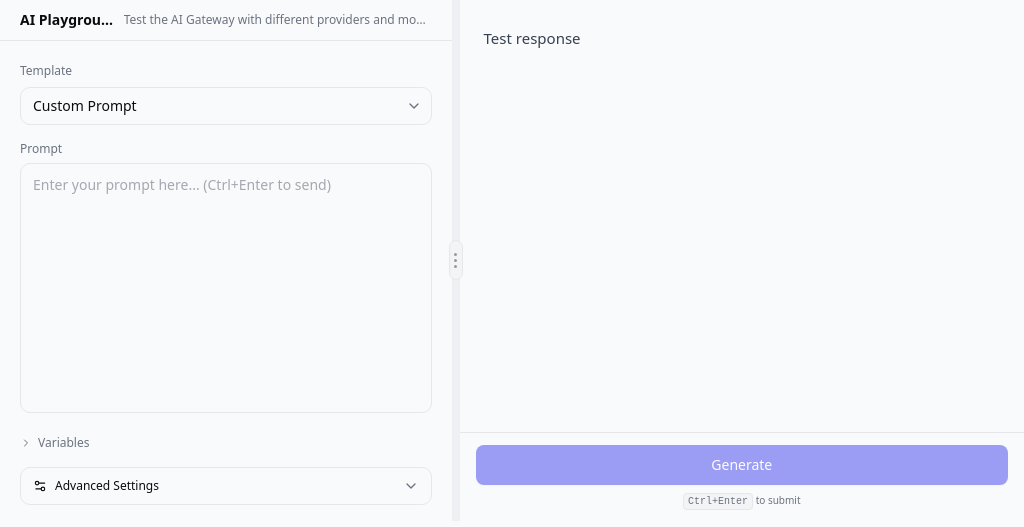
Test: Playground Flow - 10 Steps › Step 4: Response Actions › should have Regenerate capability via re-submitting prompt
This screenshot has width=1024, height=527.
User can type a new prompt and generate again (regenerate flow)
Type "Regenerate prompt" into the text box with placeholder "Enter your prompt here... (Ctrl+Enter to send)" at (226,288), box [20,163,432,412]
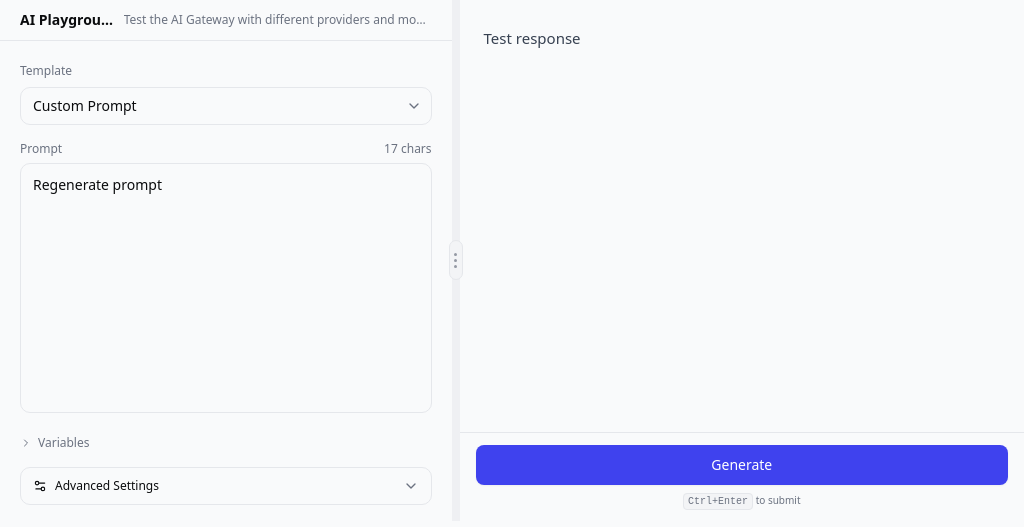
expect the button "Generate" is enabled: met, box [476,444,1008,484]
